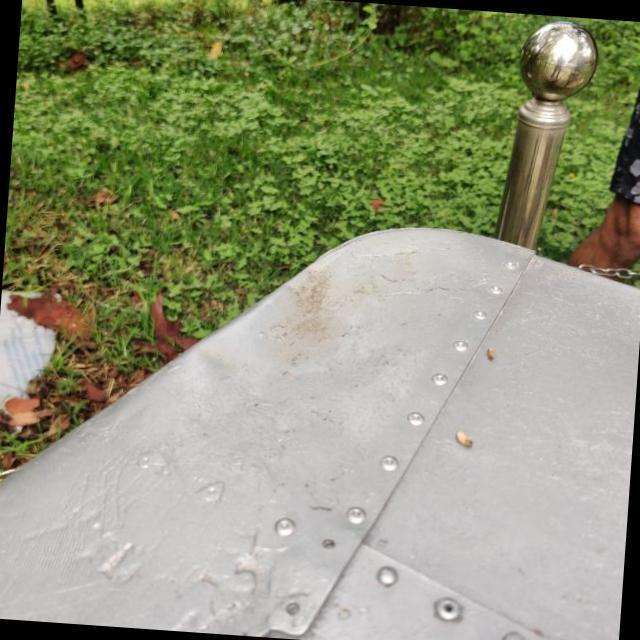Dent: (172, 308, 282, 418)
